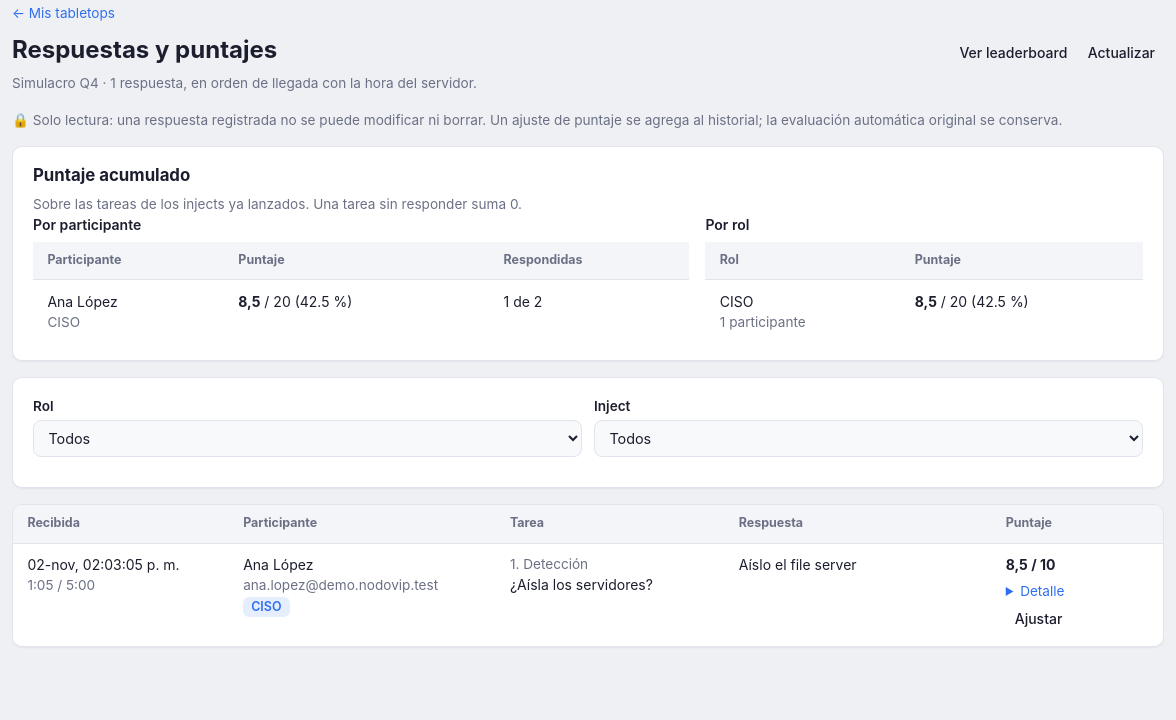
Test: Registro de respuestas de la sesión › ajusta el puntaje con motivo y recarga
Expected: the text "Aíslo el file server" is shown, [724,543,991,646]
Click the button "Ajustar": (1038,618) [1006,601,1071,635]
(page scrolled)
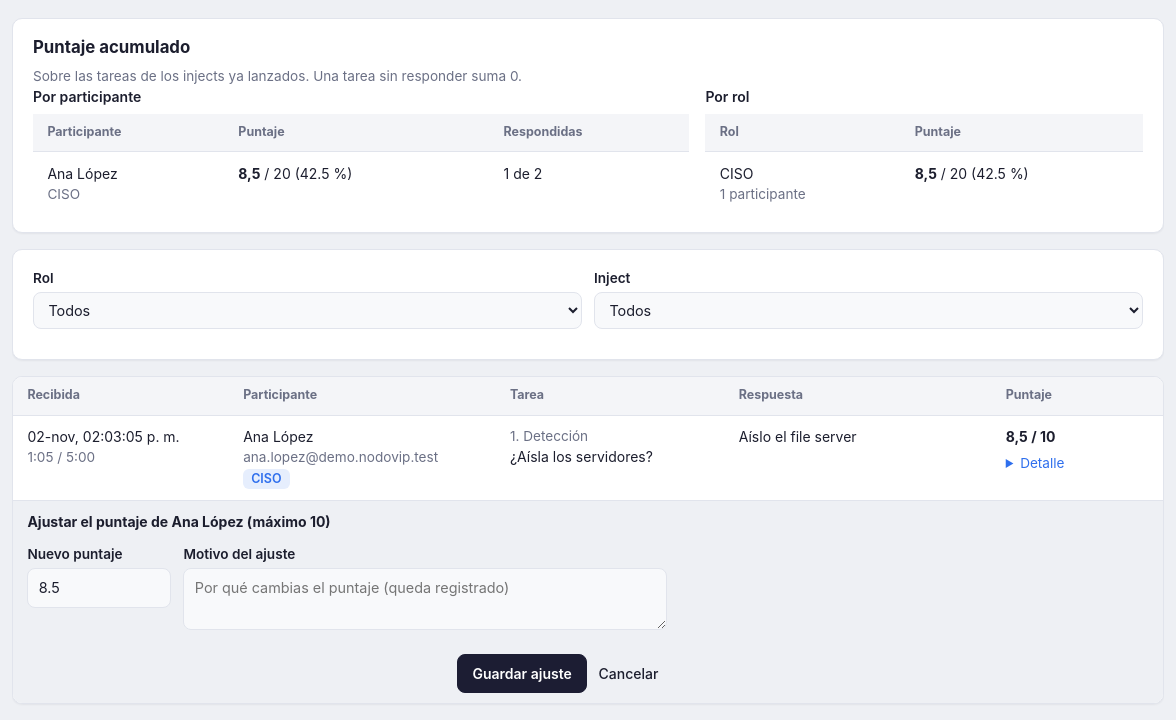
Replace the text in the number field labelled "Nuevo puntaje" with "6": (99,588) [27,568,171,608]
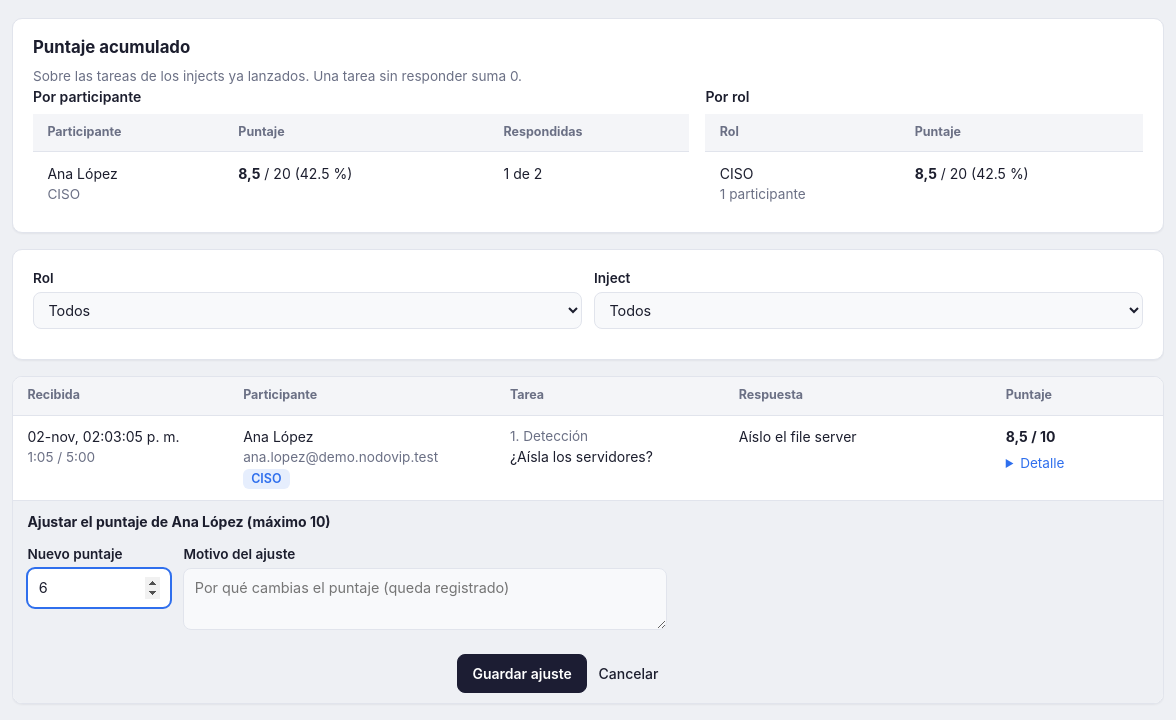
In the text box labelled "Motivo del ajuste": (425,599) [183,568,667,630], type "Faltó justificar"
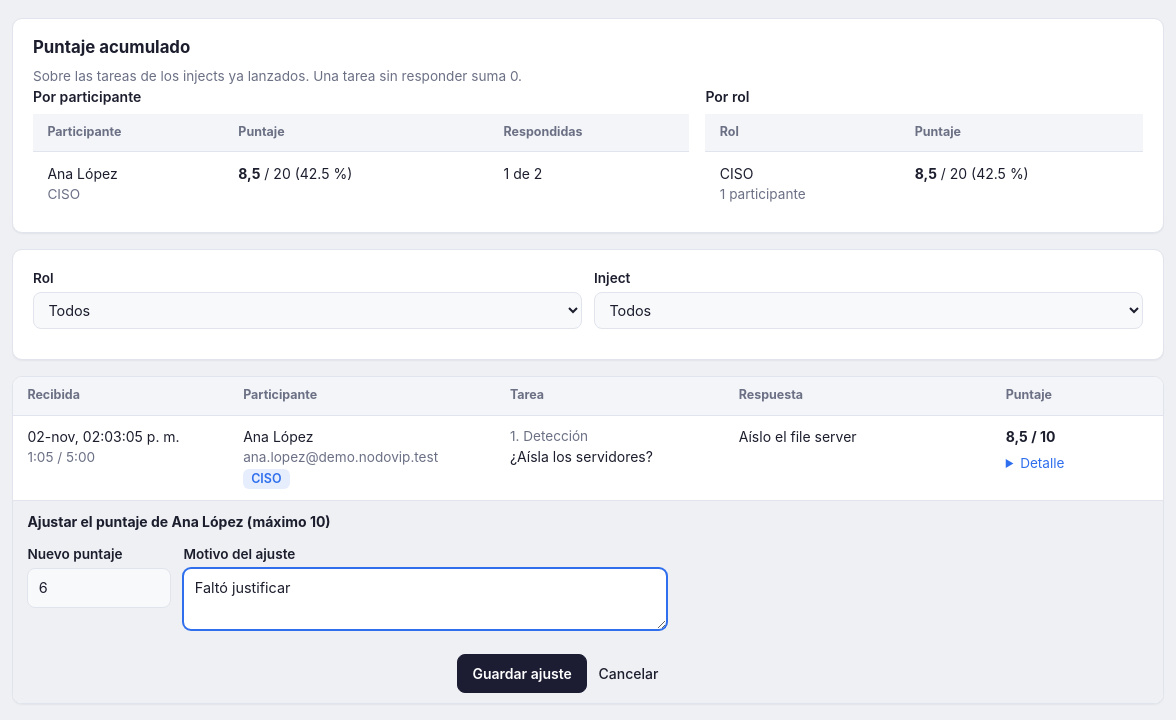
Click the button "Guardar ajuste": (522,673) [457,654,587,692]
(page scrolled)
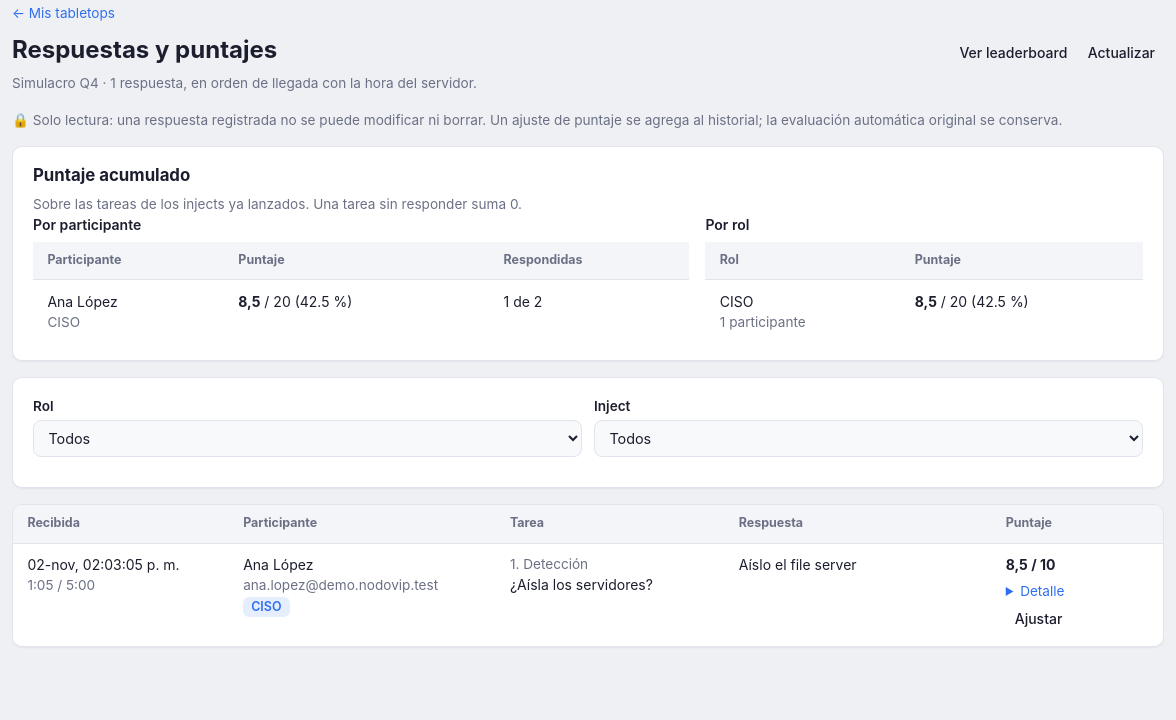
Expected: the label labelled "Nuevo puntaje" is gone
